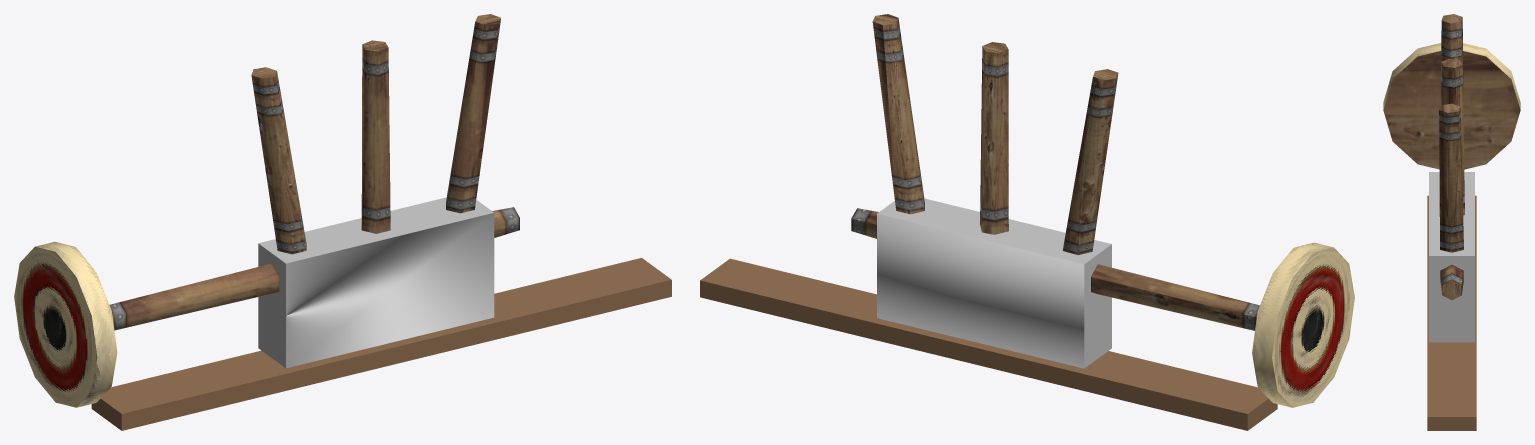
File: P_Modul_01.FBX
3 renders of one model, left to right at view 1: azimuth 30°, elevation 25°; view 2: azimuth 150°, elevation 25°; view 3: azimuth 270°, elevation 25°, orthographic. The views are drawn at different scales.
Parts seen in each view (by area): view 1: P_Modul_01_Pusher, P_Modul_01_Rinne, P_Modul_01_Pusher_1, P_Modul_01_Pusher_2, P_Modul_01_Pusher_3; view 2: P_Modul_01_Pusher, P_Modul_01_Rinne, P_Modul_01_Pusher_1, P_Modul_01_Pusher_2, P_Modul_01_Pusher_3; view 3: P_Modul_01_Pusher_2, P_Modul_01_Pusher_1, P_Modul_01_Pusher, P_Modul_01_Rinne, P_Modul_01_Pusher_3.
Part boxes in pixels (bbox=[...]): P_Modul_01_Pusher: bbox=[258, 197, 494, 368]; P_Modul_01_Rinne: bbox=[91, 258, 671, 430]; P_Modul_01_Pusher_1: bbox=[251, 14, 500, 254]; P_Modul_01_Pusher_2: bbox=[14, 241, 117, 407]; P_Modul_01_Pusher_3: bbox=[109, 207, 519, 330]; P_Modul_01_Pusher: bbox=[877, 198, 1111, 368]; P_Modul_01_Rinne: bbox=[700, 258, 1277, 430]; P_Modul_01_Pusher_1: bbox=[872, 14, 1118, 255]; P_Modul_01_Pusher_2: bbox=[1252, 242, 1354, 407]; P_Modul_01_Pusher_3: bbox=[851, 208, 1259, 330]; P_Modul_01_Pusher_2: bbox=[1383, 43, 1520, 169]; P_Modul_01_Pusher_1: bbox=[1439, 14, 1464, 252]; P_Modul_01_Pusher: bbox=[1429, 172, 1474, 342]; P_Modul_01_Rinne: bbox=[1427, 195, 1476, 430]; P_Modul_01_Pusher_3: bbox=[1440, 265, 1463, 300].
Bounding box in the file's own units: 15 × 7.36 × 3.6.
